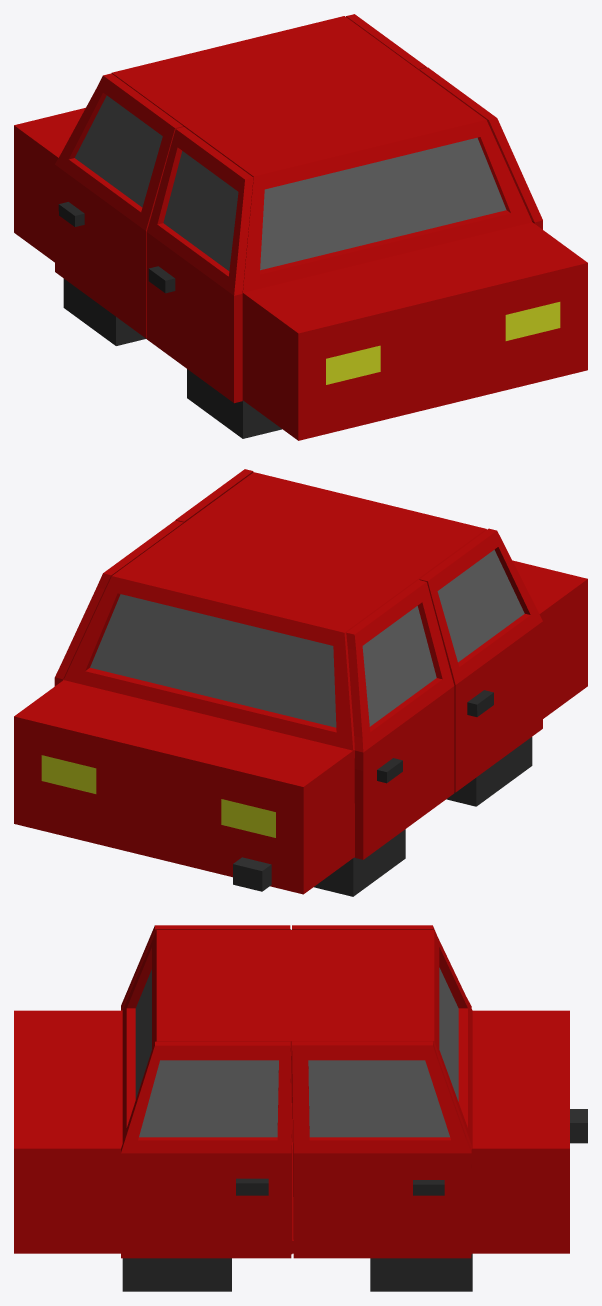
The model's file is CAR_RED_MODEL_WITH_DOORS.fbx.
3 views of the same model, one above another, from view 1: azimuth 30°, elevation 25°; view 2: azimuth 150°, elevation 25°; view 3: azimuth 270°, elevation 25° (orthographic). The views are drawn at different scales.
Visible parts, largest first — view 1: CAR_RED_WITH_DOORS; view 2: CAR_RED_WITH_DOORS; view 3: CAR_RED_WITH_DOORS.
Part boxes in pixels (x1,y1,x2,y2): CAR_RED_WITH_DOORS: (14, 14, 587, 440); CAR_RED_WITH_DOORS: (14, 469, 587, 896); CAR_RED_WITH_DOORS: (14, 925, 587, 1291).
Size of the model in its own units: 1967 by 1388 by 3046.
